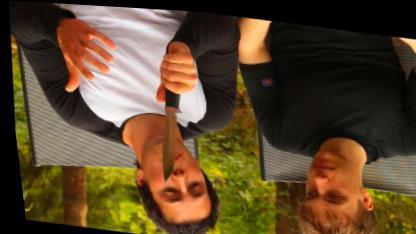knife: (140, 52, 206, 192)
